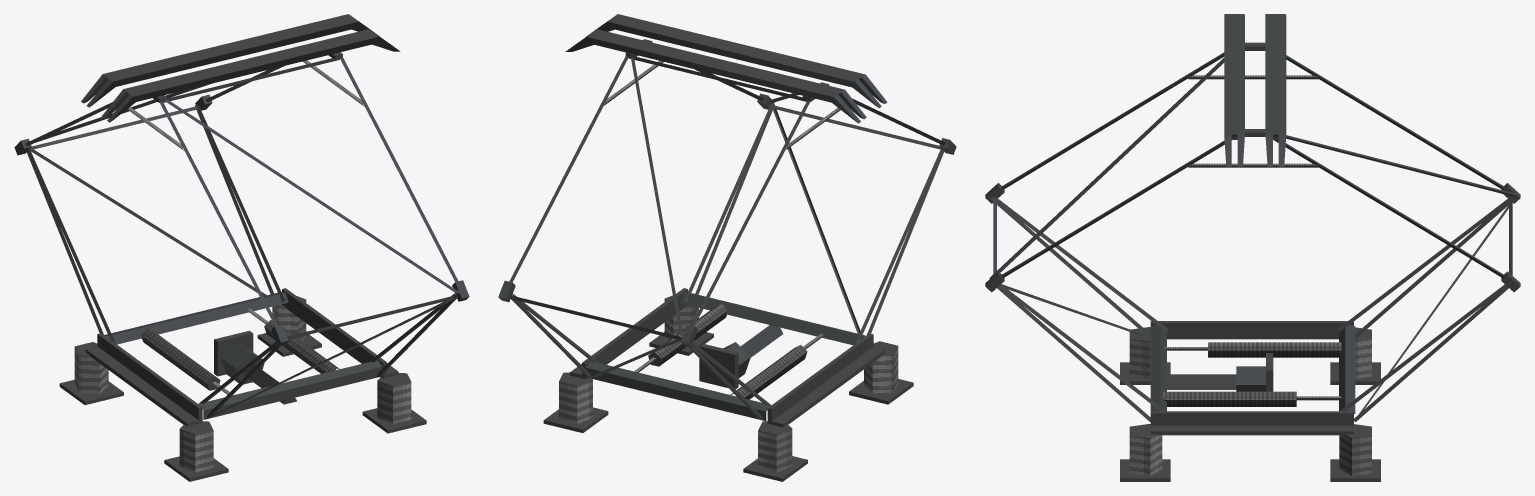
File: K80_PANTA2.glb
3 views of the same model, side by side, from view 1: azimuth 30°, elevation 25°; view 2: azimuth 150°, elevation 25°; view 3: azimuth 270°, elevation 25° (orthographic).
Visible parts, largest first — view 1: panta; view 2: panta; view 3: panta.
Part boxes in pixels (x1,y1,x2,y2): panta: (14, 14, 469, 481); panta: (498, 14, 956, 481); panta: (985, 14, 1520, 481).
Bounding box in the file's own units: 3.73 × 4.27 × 5.92.
Materials: 2 (2 with a texture image).
